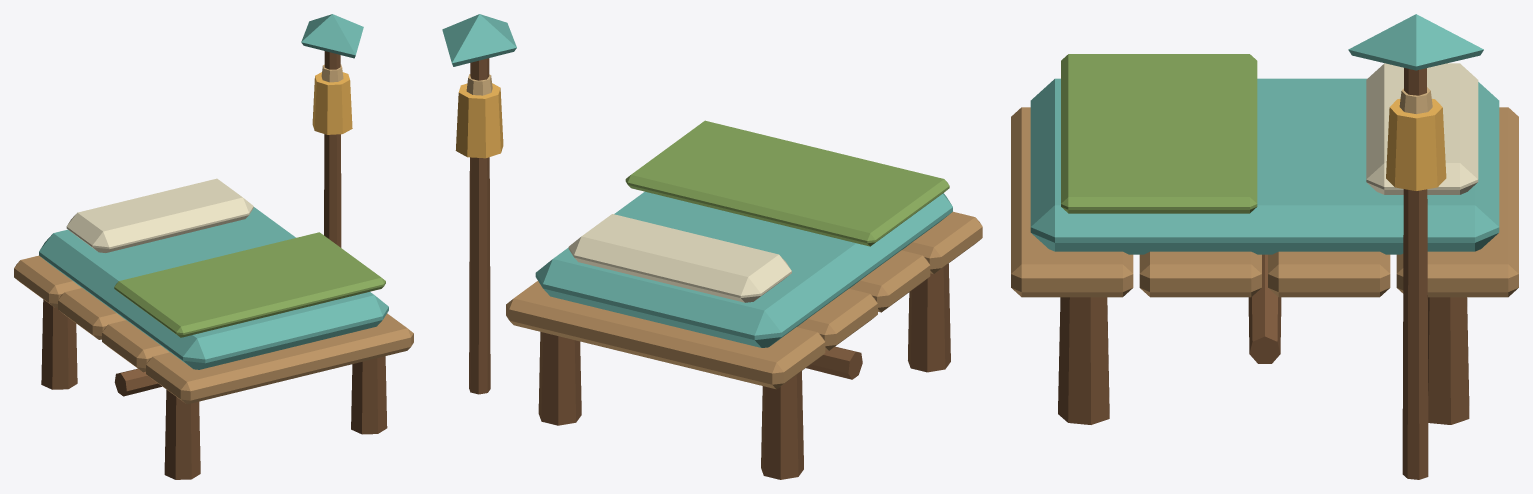
Rendered from CC_CommanderBed.fbx.
The picture shows the model from 3 angles, left to right: view 1: azimuth 30°, elevation 25°; view 2: azimuth 150°, elevation 25°; view 3: azimuth 270°, elevation 25°; orthographic projection. The views are drawn at different scales.
Parts seen in each view (by area): view 1: Leaf mattress, Folded blanket, Plank, Head cushion, Leg, Leg.001, Leg.002, Equipment pole, Medicine jar, Medical marker, Plank.003, Plank.001 (+2 smaller); view 2: Leaf mattress, Folded blanket, Plank.003, Head cushion, Equipment pole, Leg.001, Leg, Leg.003, Medicine jar, Medical marker, Plank, Plank.001 (+2 smaller); view 3: Leaf mattress, Folded blanket, Plank, Head cushion, Equipment pole, Plank.003, Leg.002, Plank.001, Plank.002, Leg.003, Medicine jar, Medical marker (+2 smaller).
Boxes of the visible parts, x1,y1,x2,y2 form: Leaf mattress: [39, 207, 388, 369]; Folded blanket: [114, 232, 385, 337]; Plank: [146, 313, 413, 404]; Head cushion: [66, 178, 253, 252]; Leg: [164, 389, 200, 479]; Leg.001: [41, 299, 77, 389]; Leg.002: [351, 356, 387, 434]; Equipment pole: [324, 51, 341, 247]; Medicine jar: [312, 72, 352, 134]; Medical marker: [301, 14, 363, 58]; Plank.003: [14, 255, 81, 307]; Plank.001: [102, 320, 169, 372]; Leaf mattress: [535, 191, 952, 347]; Folded blanket: [625, 120, 949, 246]; Plank.003: [506, 281, 825, 389]; Head cushion: [568, 214, 791, 302]; Equipment pole: [469, 58, 490, 394]; Leg.001: [761, 371, 803, 479]; Leg: [908, 263, 950, 372]; Leg.003: [538, 332, 581, 425]; Medicine jar: [455, 83, 503, 158]; Medical marker: [442, 14, 516, 66]; Plank: [902, 211, 982, 273]; Plank.001: [849, 250, 930, 312]; Leaf mattress: [1030, 78, 1499, 254]; Folded blanket: [1061, 54, 1257, 213]; Plank: [1011, 107, 1133, 297]; Head cushion: [1366, 63, 1478, 194]; Equipment pole: [1402, 68, 1428, 479]; Plank.003: [1396, 107, 1518, 297]; Leg.002: [1058, 297, 1109, 424]; Plank.001: [1139, 251, 1261, 297]; Plank.002: [1268, 251, 1390, 297]; Leg.003: [1428, 297, 1469, 424]; Medicine jar: [1386, 98, 1446, 190]; Medical marker: [1348, 14, 1483, 70].
Size of the model in its own units: 1.77 by 1.68 by 1.68.
